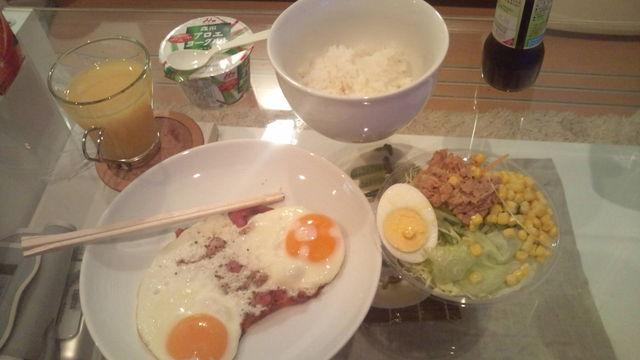plate: (79, 139, 381, 359)
rice: (300, 45, 414, 97)
